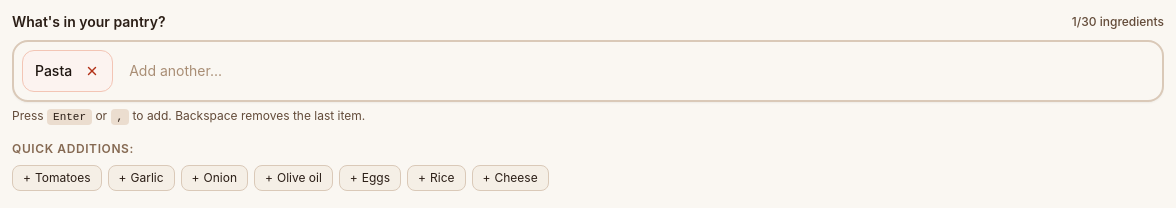
Scenario: IngredientChips Component Tests › prevents case-insensitive duplicate ingredients
Type "pasta" into the field.
click(638, 71); type("pasta")  # box [121,53,1154,89]
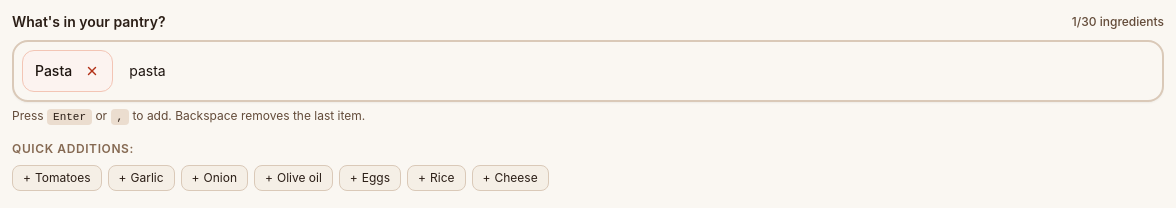
Press Enter in the field, box [121,53,1154,89]
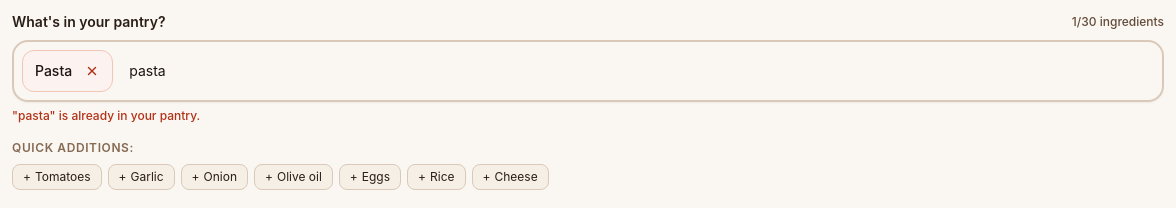
Expected: the text "\"pasta\" is already in your pantry." is shown, [12,108,200,123]
